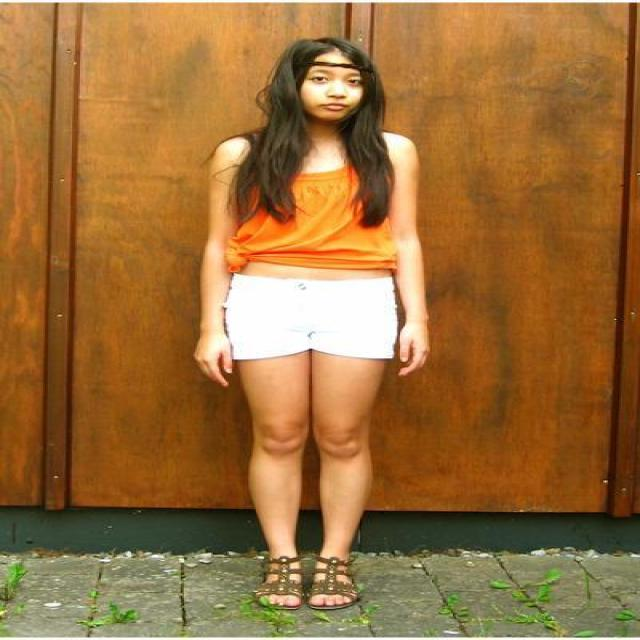shirt: (224, 166, 398, 294)
shoe: (267, 550, 379, 600)
shorts: (226, 262, 397, 358)
